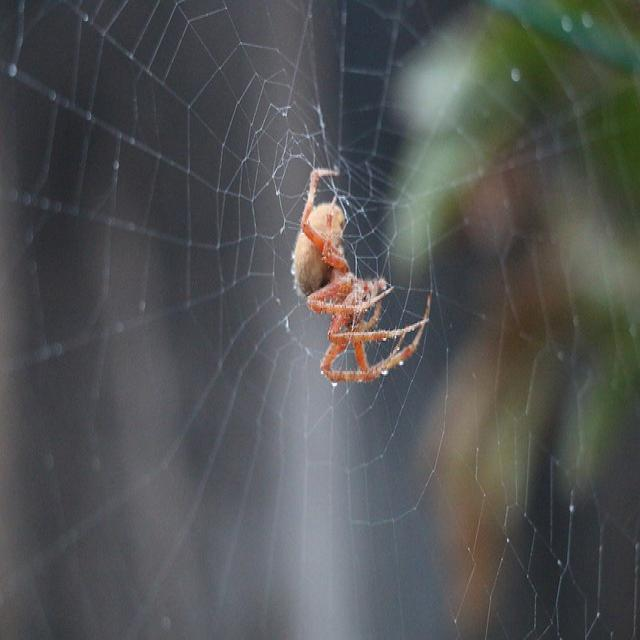spyder: (292, 169, 430, 382)
